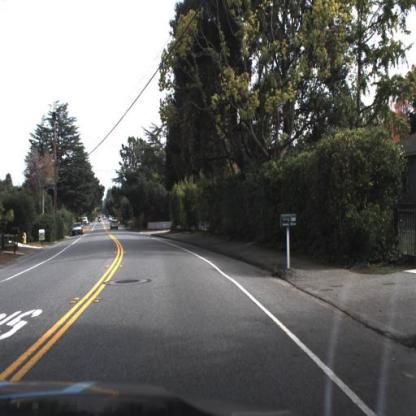car: (72, 222, 84, 238), (110, 217, 120, 233), (110, 219, 120, 234)
